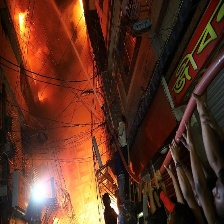fire: (86, 194, 115, 220), (74, 1, 91, 26), (17, 9, 29, 40)
